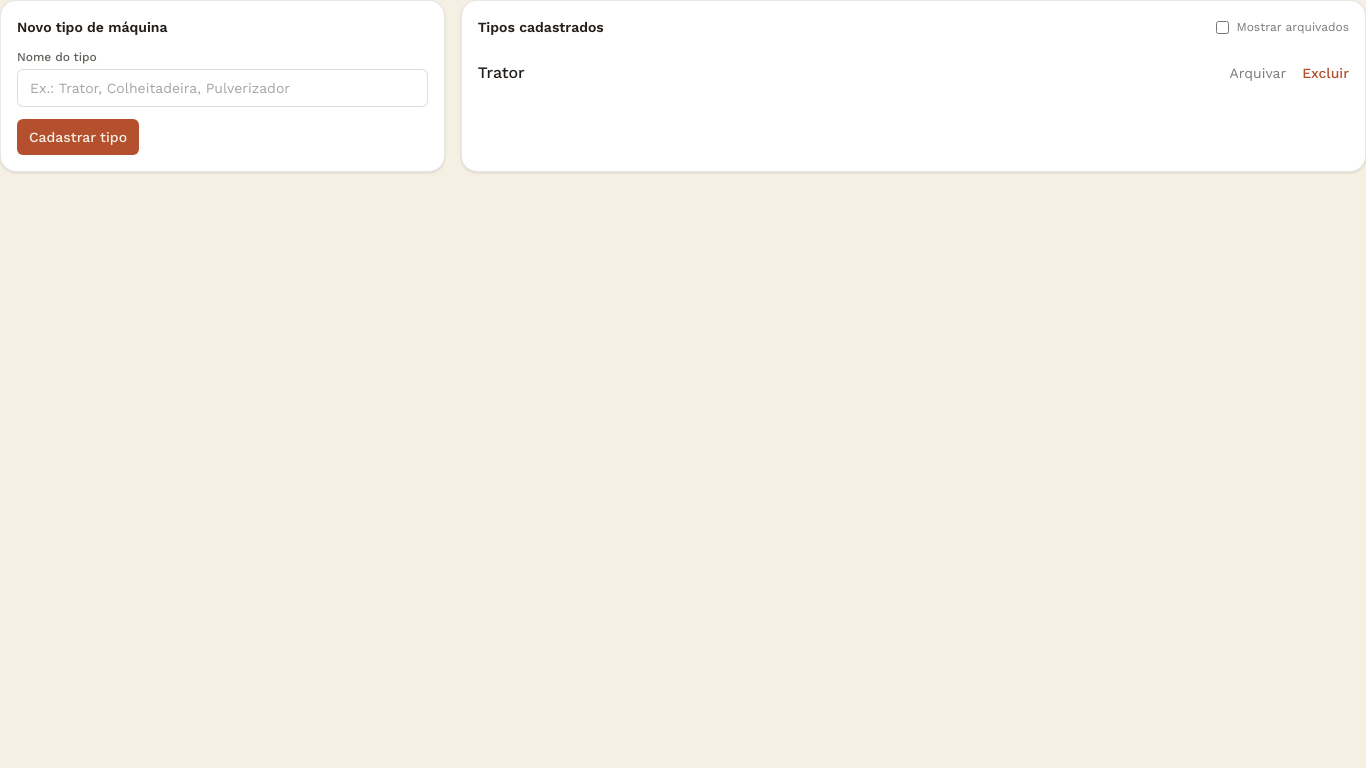
Test: MachineTypesTab › mostra o erro do servidor quando a exclusão é bloqueada por uso
The width and height of the screenshot is (1366, 768).
Click the button "Excluir".
click(1326, 73)  # box [1302,63,1349,83]
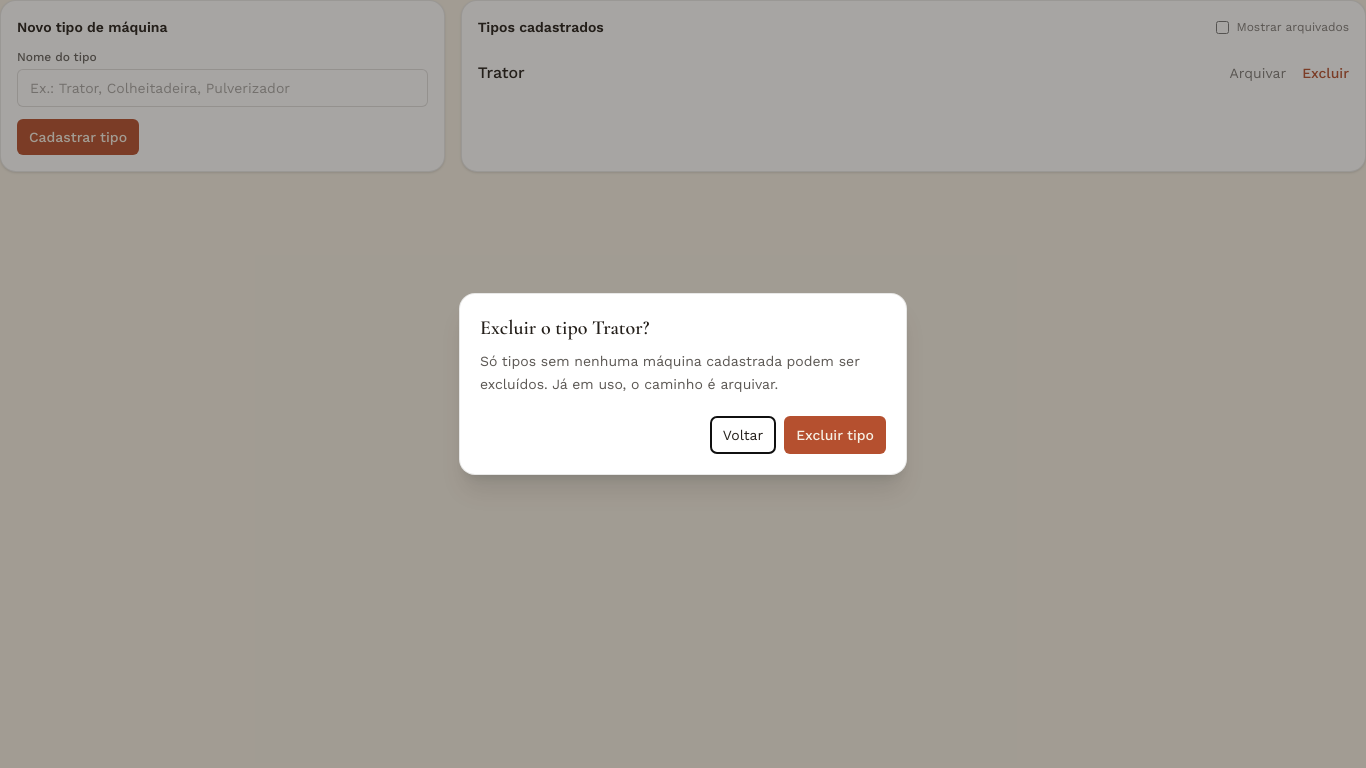
Click the button "Excluir tipo".
click(835, 435)  # box [784,416,886,454]
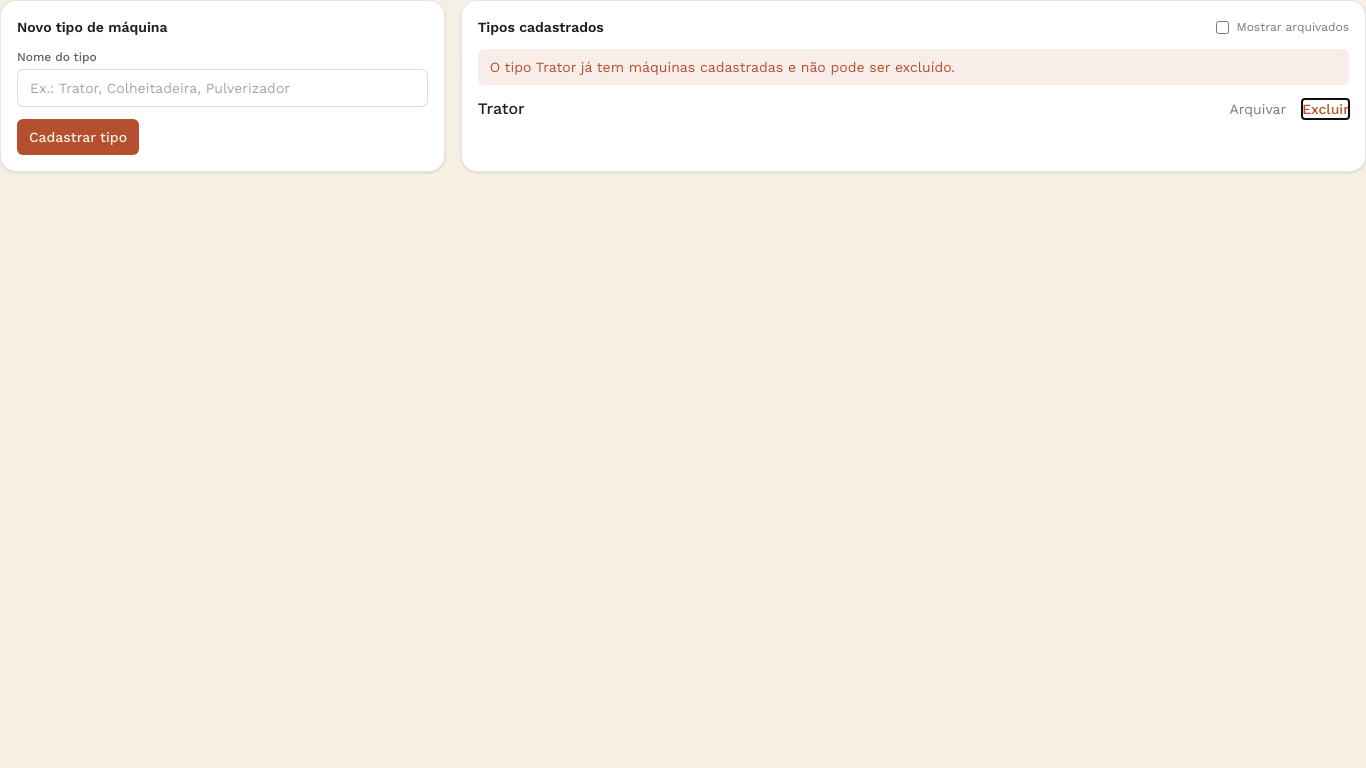
Check: the text "O tipo Trator já tem máquinas cadastradas e não pode ser excluído." is shown, box [478,49,1349,85]
